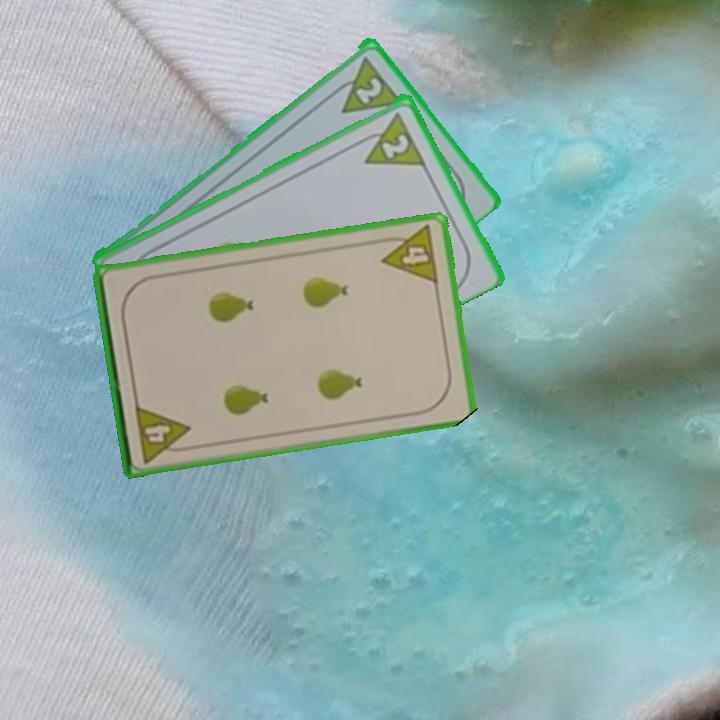2p: (351, 73, 386, 106), (378, 129, 412, 161)
4p: (375, 222, 441, 287), (131, 401, 195, 466)
